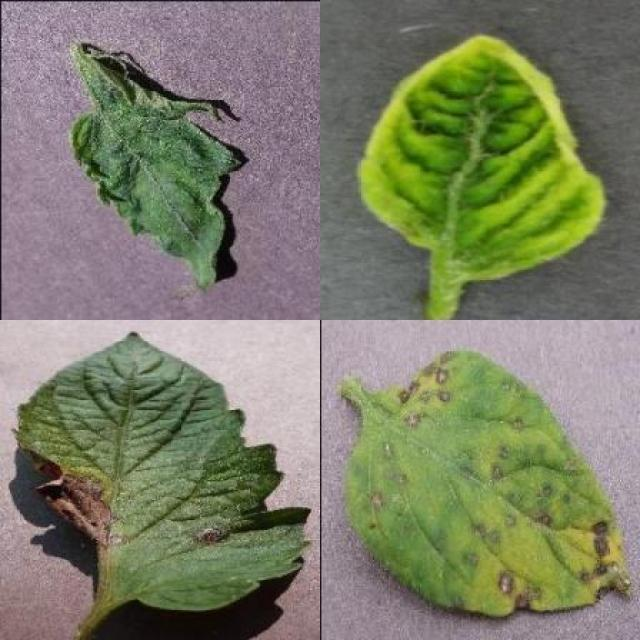Late Blight: (13, 329, 310, 614)
Mosaic Virus: (68, 70, 242, 290)
Septoria: (344, 349, 634, 617)
Yellow Leaf Curl Virus: (359, 34, 607, 282)
